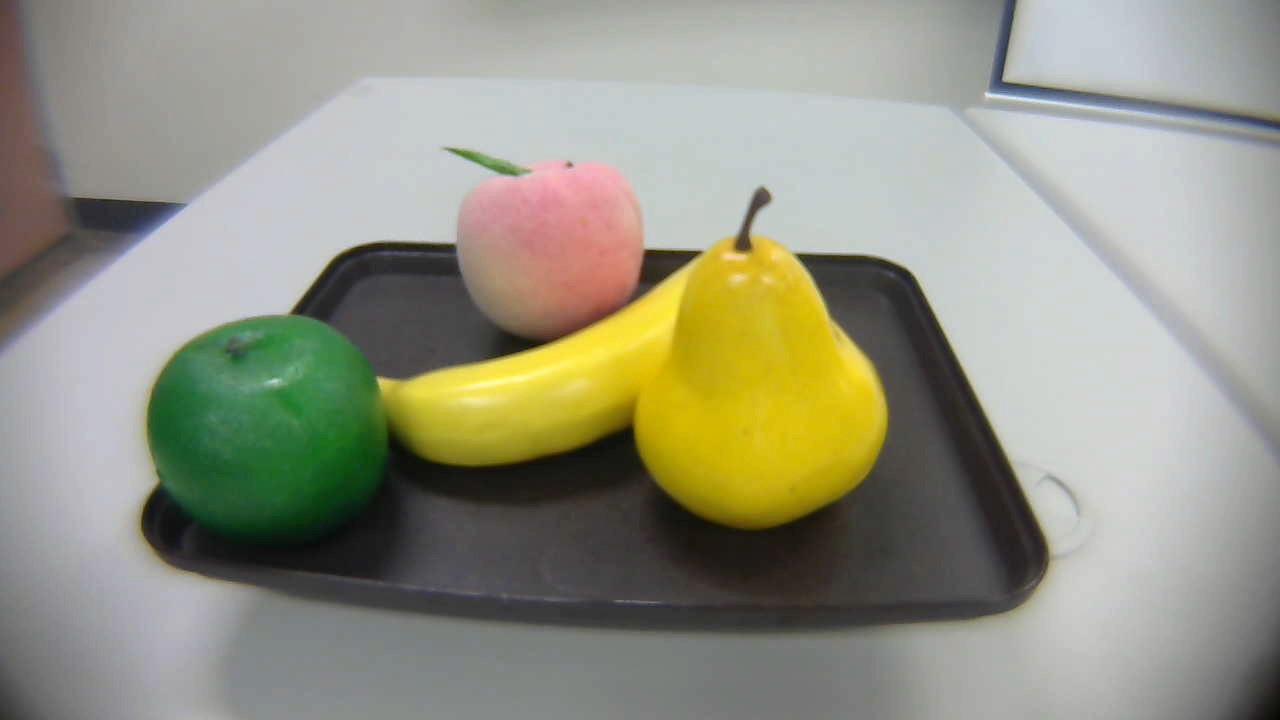banana: (369, 251, 713, 464)
green orange: (142, 310, 393, 542)
peach: (427, 120, 659, 341)
yellow pear: (635, 186, 896, 530)
